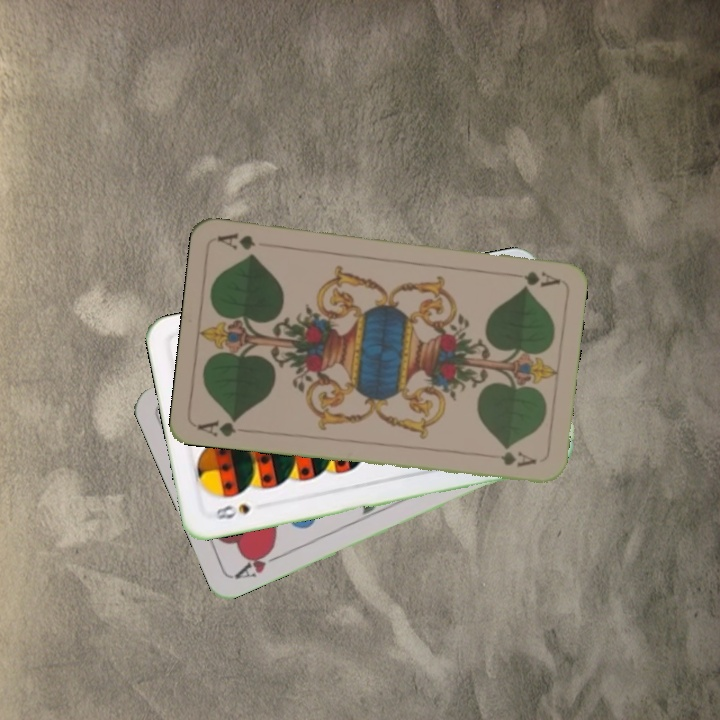GA: (194, 413, 242, 440), (520, 267, 562, 289)
HA: (231, 542, 287, 582)
S8: (206, 499, 252, 522)
